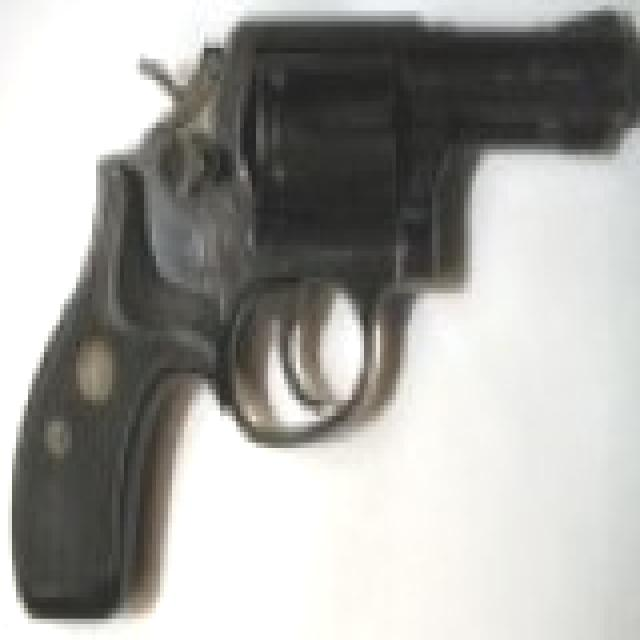pistol: (16, 11, 636, 597)
